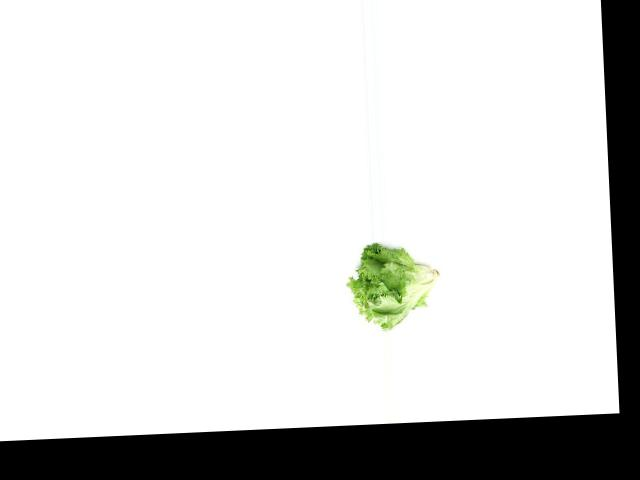lettuce: (347, 238, 443, 334)
